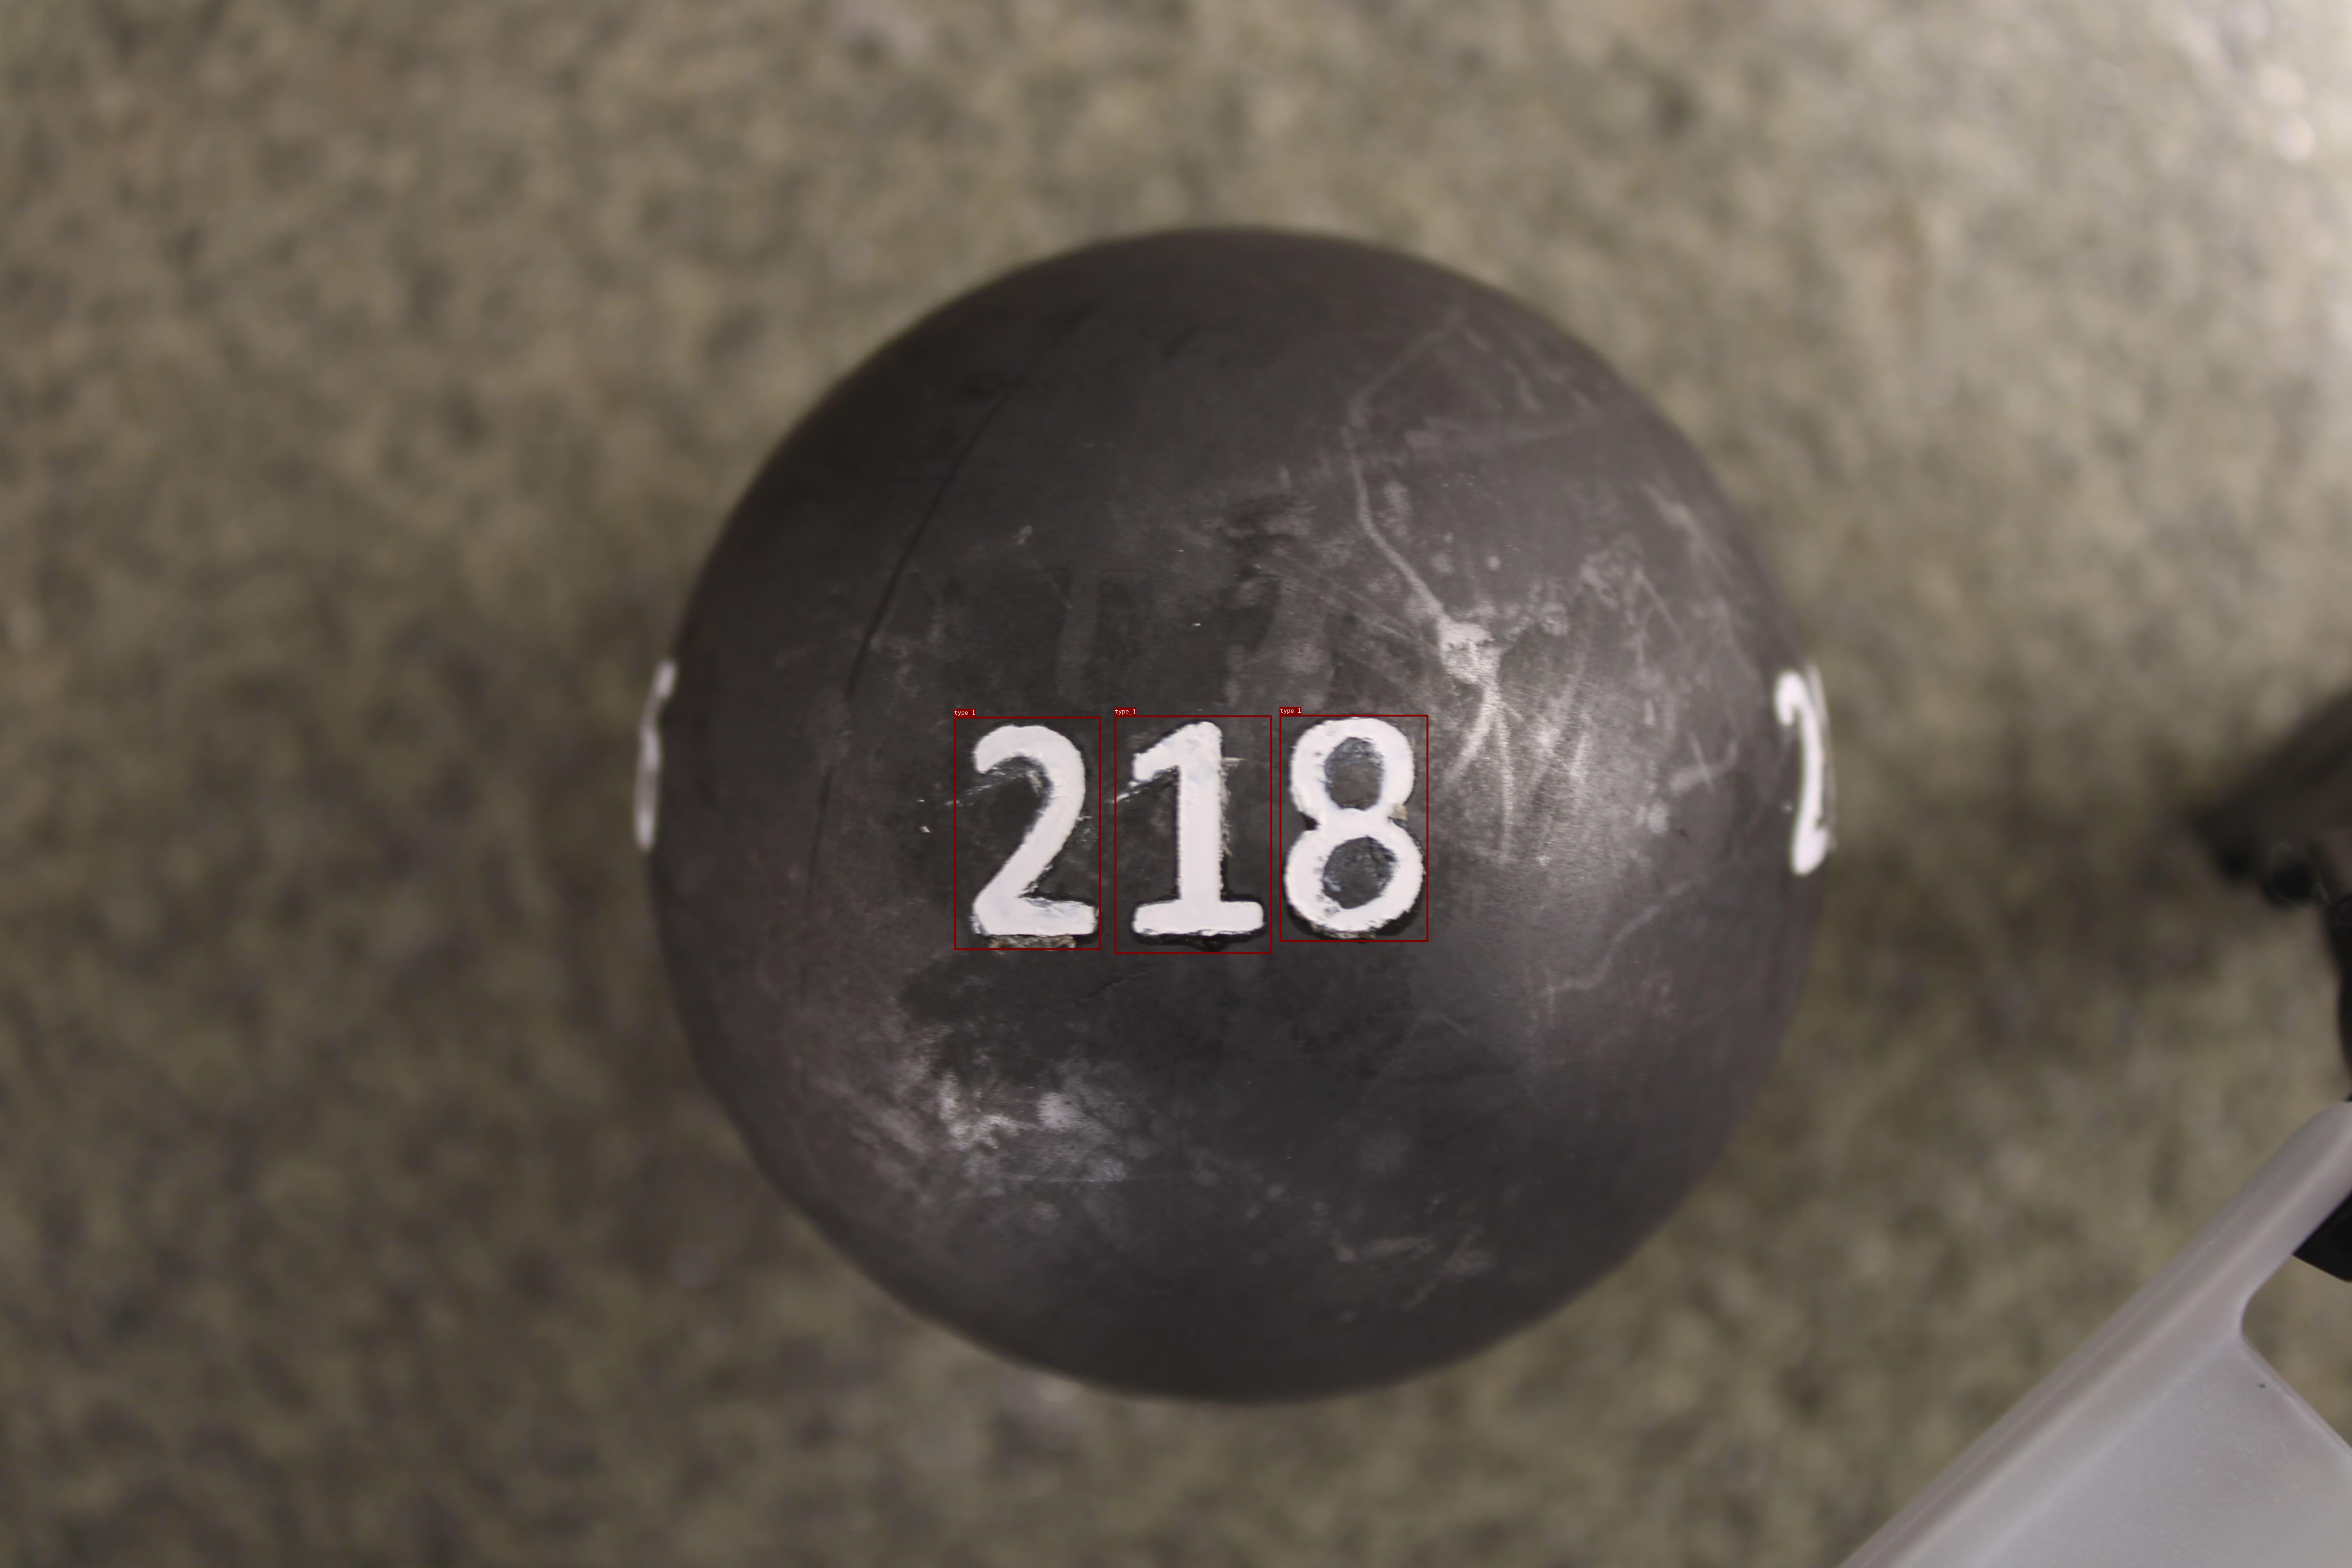type_1: (1115, 716, 1270, 954), (954, 716, 1101, 950), (1279, 714, 1428, 941)
